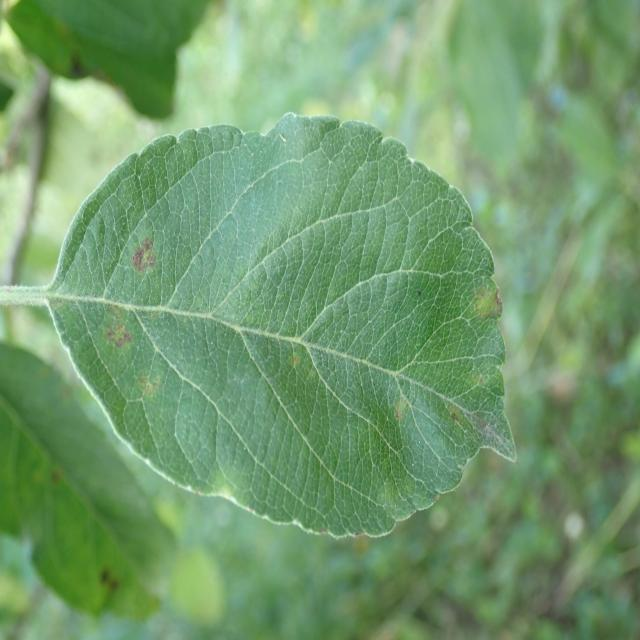scab: (99, 175, 509, 512)
